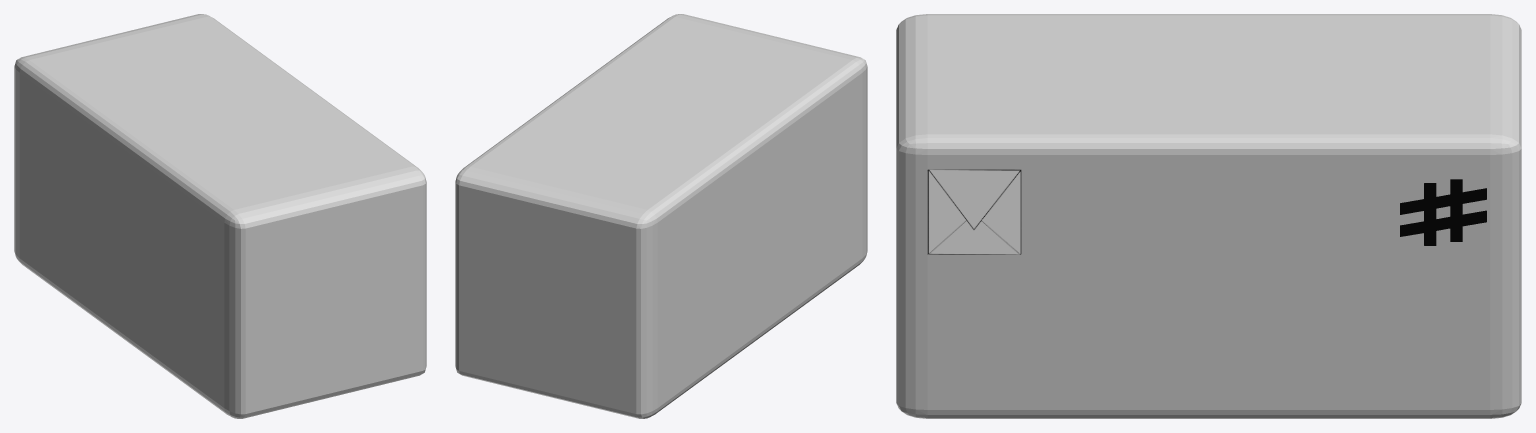
The model's file is Message_Highlight_Hashtag.dae.
3 views of the same model, side by side, from view 1: azimuth 30°, elevation 25°; view 2: azimuth 150°, elevation 25°; view 3: azimuth 270°, elevation 25° (orthographic). The views are drawn at different scales.
Parts seen in each view (by area): view 1: Cube; view 2: Cube; view 3: Cube, Plane, Plane_001.
Boxes of the visible parts, left/top/right/bottom form: Cube: left=14, top=14, right=426, bottom=418; Cube: left=455, top=14, right=867, bottom=418; Cube: left=896, top=14, right=1521, bottom=418; Plane: left=927, top=169, right=1021, bottom=254; Plane_001: left=1400, top=179, right=1486, bottom=245.
Size of the model in its own units: 1 by 2 by 1.
Materials: 3 (2 with a texture image).
